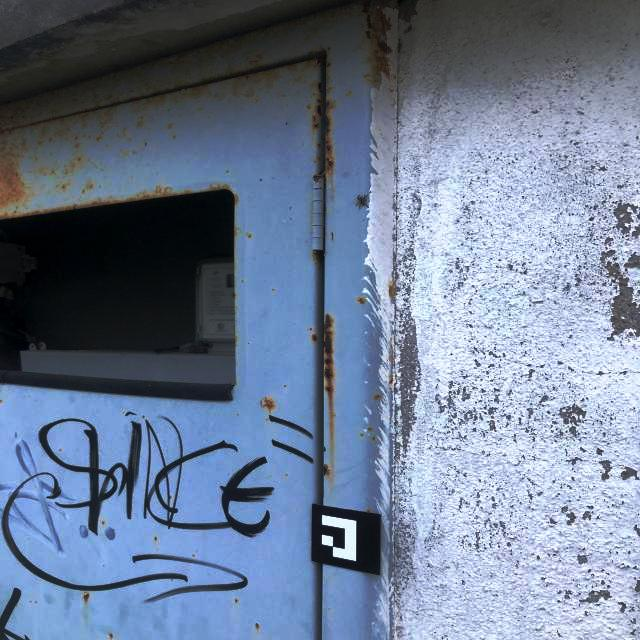Corrosion: (0, 58, 325, 220), (24, 64, 249, 123), (324, 313, 336, 417), (325, 99, 335, 173), (363, 51, 382, 84), (373, 1, 390, 37), (0, 106, 23, 130), (320, 46, 332, 87), (306, 103, 322, 130), (63, 155, 84, 175), (376, 50, 389, 77), (260, 396, 275, 415), (376, 41, 392, 55), (245, 55, 262, 68), (32, 166, 56, 175), (118, 127, 132, 141), (54, 180, 71, 190), (366, 14, 375, 32), (310, 81, 323, 93), (361, 0, 373, 13), (81, 182, 94, 193), (137, 116, 148, 127), (311, 252, 321, 263), (234, 226, 240, 242), (323, 464, 330, 476), (364, 30, 372, 40), (356, 297, 365, 305), (234, 276, 237, 299), (388, 286, 394, 297), (82, 592, 89, 601), (314, 156, 321, 163), (168, 123, 176, 129), (313, 177, 321, 183), (326, 87, 332, 95), (312, 334, 317, 342), (30, 156, 39, 160), (314, 172, 322, 176), (316, 98, 321, 104), (74, 136, 80, 140), (375, 395, 381, 399), (235, 336, 237, 346), (109, 633, 113, 638), (255, 623, 259, 628), (247, 233, 251, 237), (75, 144, 79, 148), (390, 379, 393, 384), (332, 232, 334, 239), (173, 136, 176, 140), (318, 143, 321, 147), (368, 427, 372, 430), (367, 509, 371, 512), (88, 136, 91, 139), (82, 134, 85, 137), (235, 599, 238, 602), (145, 142, 147, 146), (310, 327, 312, 330), (169, 496, 171, 499), (155, 537, 157, 540), (102, 522, 105, 524), (192, 554, 195, 556), (373, 437, 375, 440), (360, 434, 363, 436), (35, 601, 37, 603), (143, 416, 145, 418), (285, 474, 287, 476), (272, 289, 274, 291), (30, 601, 31, 602)
